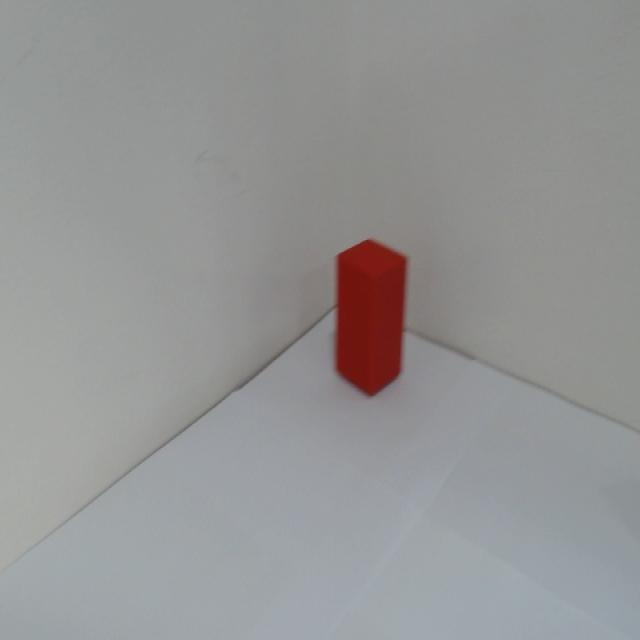cube: (330, 237, 412, 404)
